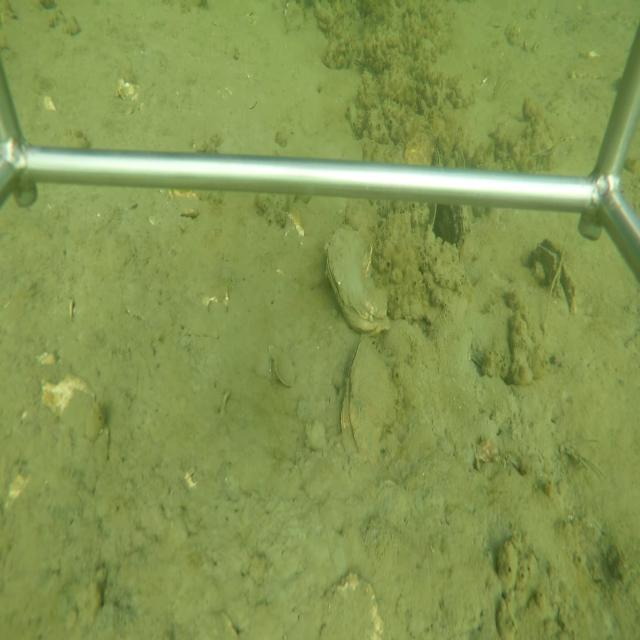Oyster-Closed: (338, 333, 401, 469), (320, 219, 392, 337), (433, 205, 472, 256)
Oyster-Open: (524, 231, 579, 319)
